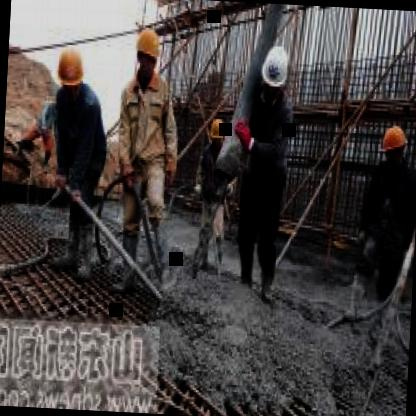helmet: (54, 44, 89, 98), (130, 25, 161, 84), (378, 122, 410, 171), (261, 43, 290, 96), (208, 113, 228, 152)
